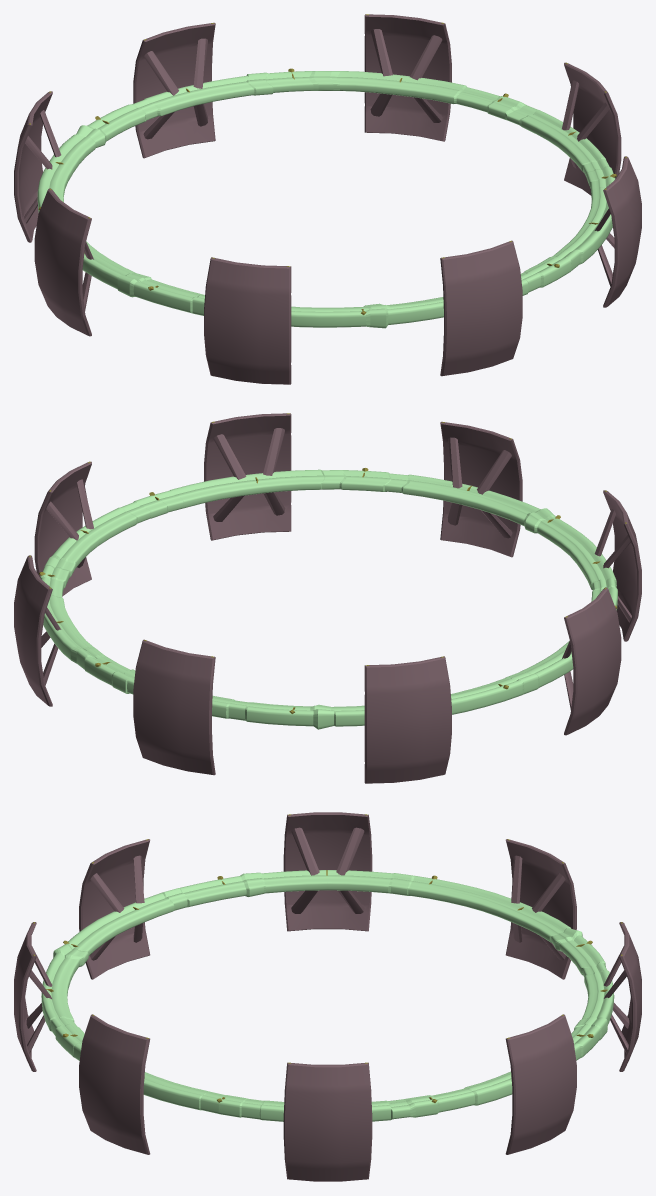
Rendered from S_OuterRing.fbx.
The picture shows the model from 3 angles, top to bottom: view 1: azimuth 30°, elevation 25°; view 2: azimuth 150°, elevation 25°; view 3: azimuth 270°, elevation 25°; orthographic projection.
Visible parts, largest first — view 1: OuterRing, S_OuterRing; view 2: OuterRing, S_OuterRing; view 3: OuterRing, S_OuterRing.
Boxes of the visible parts, <box> form: OuterRing: <box>14,14,641,384</box>; S_OuterRing: <box>37,71,615,328</box>; OuterRing: <box>14,413,641,783</box>; S_OuterRing: <box>40,469,617,729</box>; OuterRing: <box>14,812,641,1181</box>; S_OuterRing: <box>41,870,614,1121</box>.
Bounding box in the file's own units: 14384 × 2950 × 14384.
